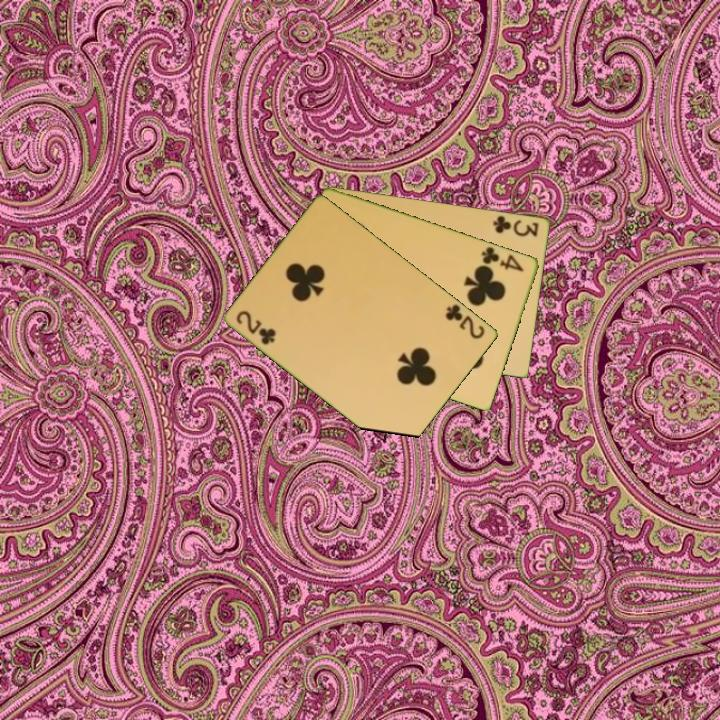2c: (442, 300, 488, 342), (233, 307, 279, 348)
3c: (490, 212, 542, 240)
4c: (478, 243, 527, 275)
